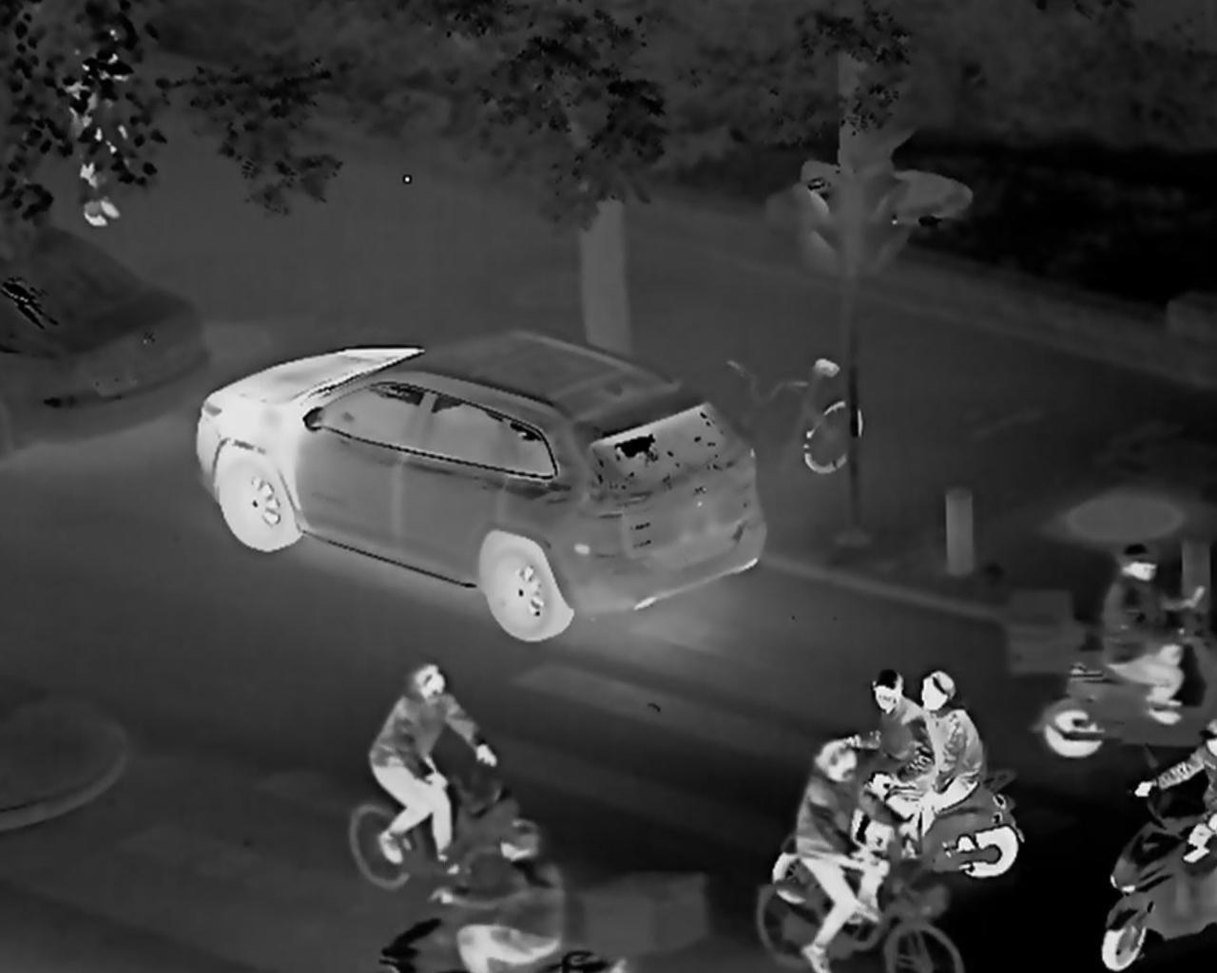person: (366, 658, 497, 882), (797, 740, 888, 973), (432, 825, 571, 973), (1093, 544, 1186, 728), (853, 668, 935, 865), (58, 18, 131, 232), (1123, 712, 1217, 868), (912, 670, 974, 861)
